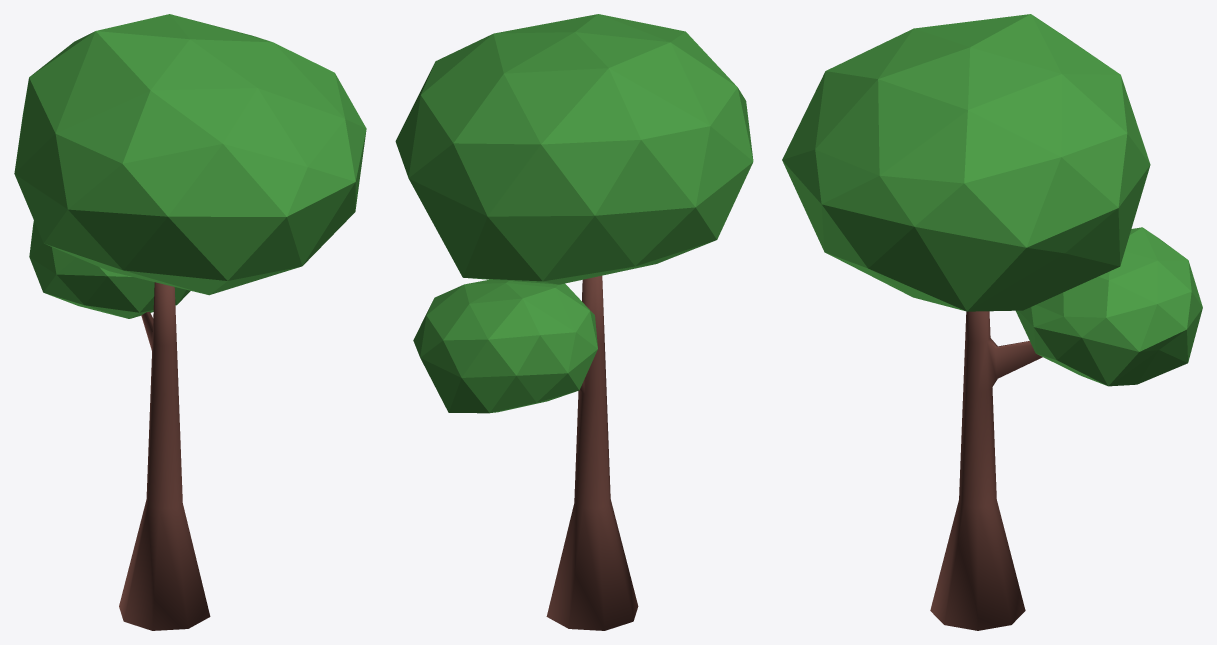
The model's file is ShortTree.fbx.
3 renders of one model, left to right at view 1: azimuth 30°, elevation 25°; view 2: azimuth 150°, elevation 25°; view 3: azimuth 270°, elevation 25°, orthographic.
Visible parts, largest first — view 1: shortTree; view 2: shortTree; view 3: shortTree.
Part boxes in pixels (<box>): shortTree: <box>14,14,366,630</box>; shortTree: <box>395,14,753,630</box>; shortTree: <box>782,14,1202,630</box>.
Size of the model in its own units: 356 by 647 by 428.
